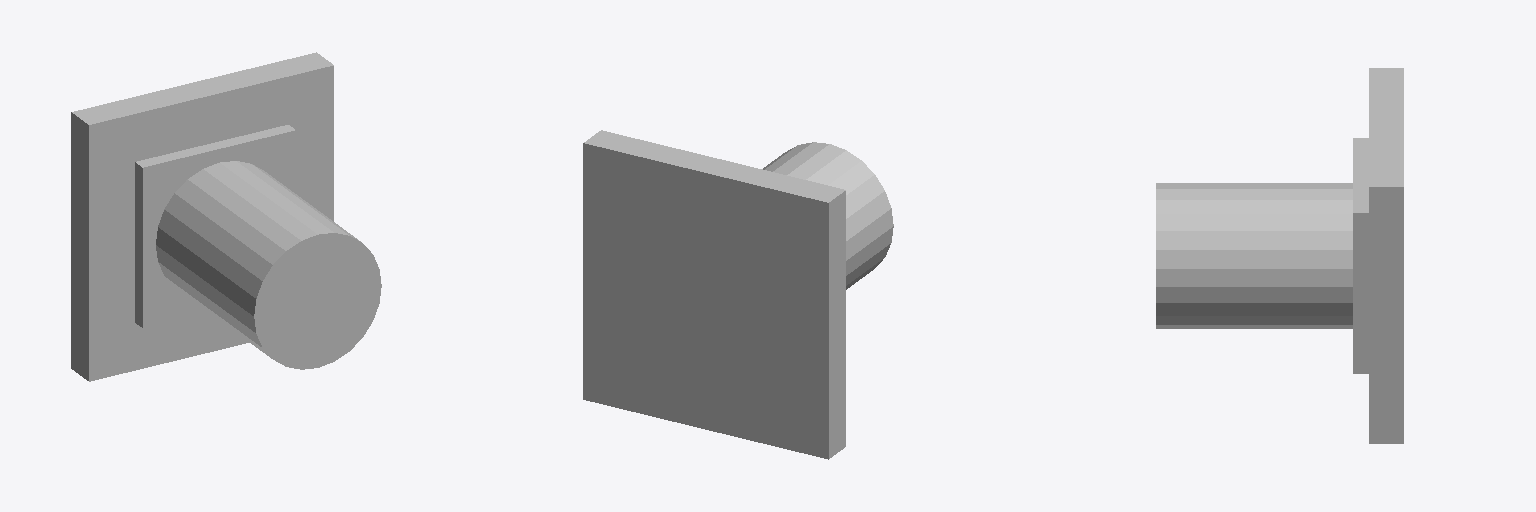
File: fod1.obj
3 renders of one model, left to right at view 1: azimuth 30°, elevation 25°; view 2: azimuth 150°, elevation 25°; view 3: azimuth 270°, elevation 25°, orthographic.
Parts seen in each view (by area): view 1: g0; view 2: g0; view 3: g0.
Boxes of the visible parts, x1,y1,x2,y2 form: g0: [71, 52, 381, 381]; g0: [583, 130, 893, 459]; g0: [1156, 68, 1403, 443].
Bounding box in the file's own units: 0.4 × 0.4 × 0.35.